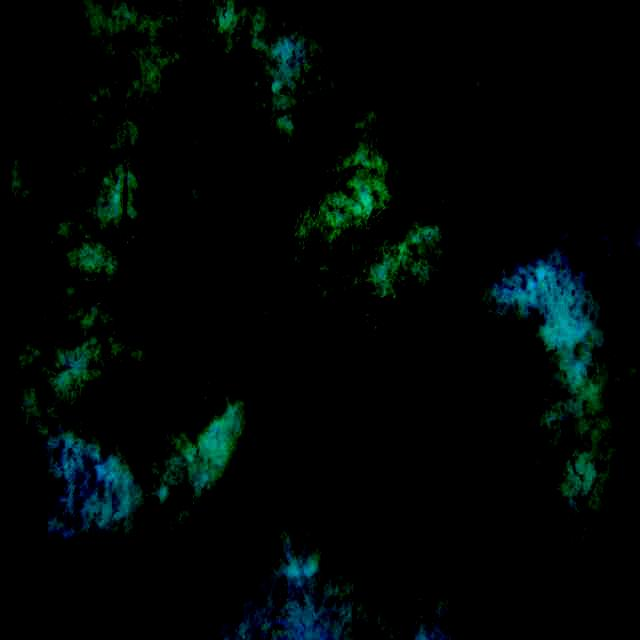MEL: (121, 24, 547, 637)
